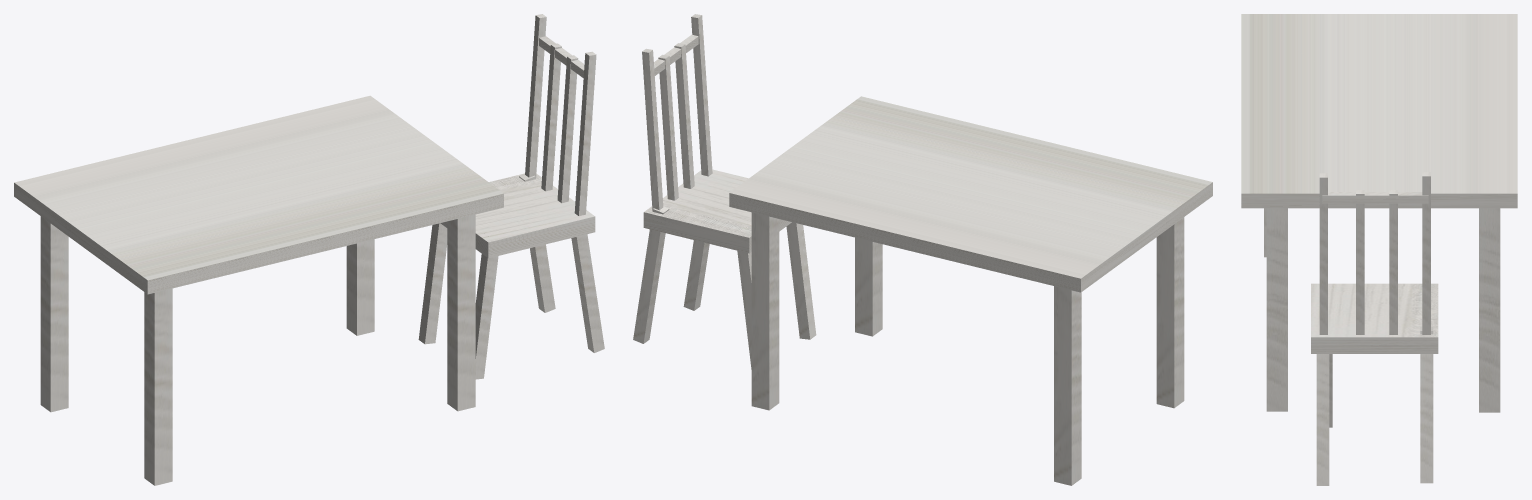
The model's file is comedor.obj.
The picture shows the model from 3 angles, left to right: view 1: azimuth 30°, elevation 25°; view 2: azimuth 150°, elevation 25°; view 3: azimuth 270°, elevation 25°; orthographic projection. The views are drawn at different scales.
Visible parts, largest first — view 1: pCube5, pCube1, pasted__pCube6 group8, pasted__pCube6 group10, pCube6, pasted__pCube6 group9, pasted__pCube2 group2, pCube2, pasted__pCube3 group5, pCube3, pasted__pasted__pCube2 pasted__group2 group4, pasted__pCube3 group6 (+2 smaller); view 2: pCube5, pasted__pCube6 group9, pCube1, pCube6, pasted__pCube6 group8, pasted__pCube6 group10, pasted__pasted__pCube2 pasted__group2 group4, pasted__pCube2 group, pCube3, pasted__pCube3 group5, pasted__pCube3 group6, pasted__pCube3 group7 (+2 smaller); view 3: pCube5, pCube1, pasted__pCube6 group9, pasted__pCube6 group10, pasted__pCube2 group, pCube2, pCube3, pasted__pCube3 group5, pasted__pCube3 group6, pasted__pCube3 group7, pCube4.
Part boxes in pixels (<box>): pCube5: <box>14,95,503,294</box>; pCube1: <box>440,173,595,258</box>; pasted__pCube6 group8: <box>144,288,172,485</box>; pasted__pCube6 group10: <box>447,214,475,411</box>; pCube6: <box>40,216,68,412</box>; pasted__pCube6 group9: <box>346,239,374,335</box>; pasted__pCube2 group2: <box>418,223,447,344</box>; pCube2: <box>571,234,604,352</box>; pasted__pCube3 group5: <box>574,51,596,215</box>; pCube3: <box>525,14,546,177</box>; pasted__pasted__pCube2 pasted__group2 group4: <box>475,254,498,379</box>; pasted__pCube3 group6: <box>541,43,561,191</box>; pCube5: <box>729,96,1212,292</box>; pasted__pCube6 group9: <box>751,212,779,410</box>; pCube1: <box>643,169,791,253</box>; pCube6: <box>1054,286,1081,485</box>; pasted__pCube6 group8: <box>1156,217,1184,408</box>; pasted__pCube6 group10: <box>855,237,882,336</box>; pasted__pasted__pCube2 pasted__group2 group4: <box>786,222,816,339</box>; pasted__pCube2 group: <box>633,206,669,343</box>; pCube3: <box>642,48,663,210</box>; pasted__pCube3 group5: <box>691,14,712,176</box>; pasted__pCube3 group6: <box>658,54,678,200</box>; pasted__pCube3 group7: <box>674,43,694,188</box>; pCube5: <box>1241,14,1517,208</box>; pCube1: <box>1311,283,1438,353</box>; pasted__pCube6 group9: <box>1479,208,1500,412</box>; pasted__pCube6 group10: <box>1266,208,1287,411</box>; pasted__pCube2 group: <box>1420,327,1433,483</box>; pCube2: <box>1316,354,1329,485</box>; pCube3: <box>1422,172,1430,334</box>; pasted__pCube3 group5: <box>1319,173,1327,334</box>; pasted__pCube3 group6: <box>1389,190,1397,334</box>; pasted__pCube3 group7: <box>1356,190,1364,334</box>; pCube4: <box>1322,192,1428,203</box>.
Size of the model in its own units: 139 by 80.89 by 65.
Materials: 1 (1 with a texture image).
